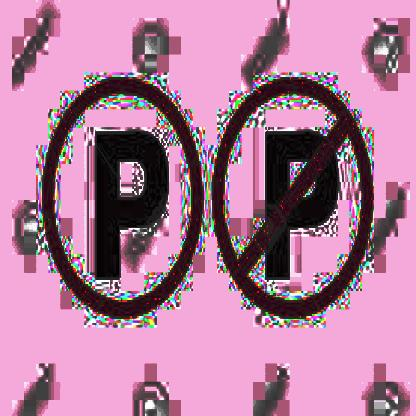No parking: (210, 81, 376, 322)
